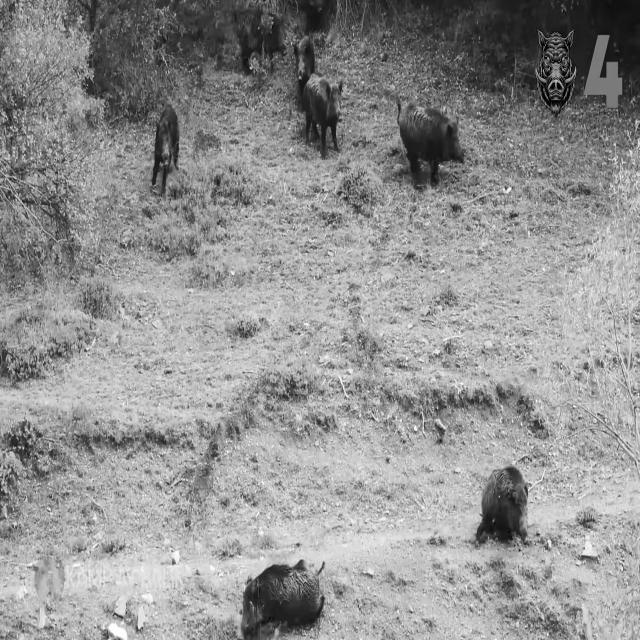boar: (241, 559, 324, 638), (397, 97, 463, 182), (476, 465, 527, 542), (234, 0, 285, 72), (302, 73, 342, 158), (152, 104, 179, 193), (294, 34, 315, 97)
